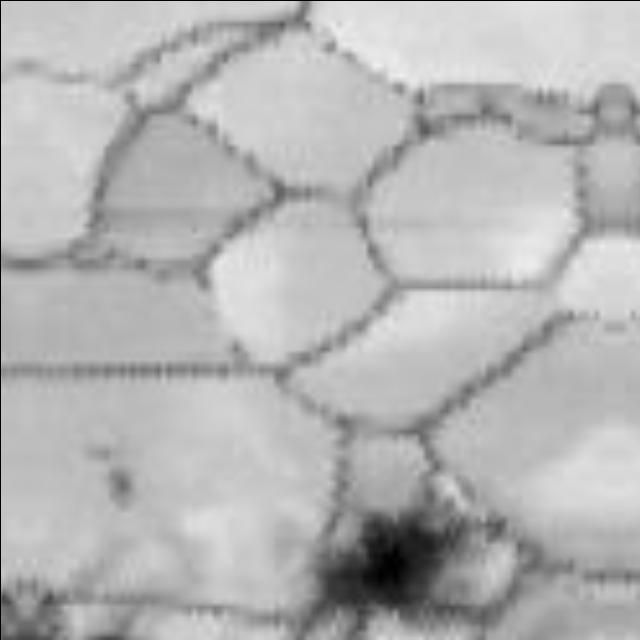good_void: (308, 503, 508, 623), (102, 466, 135, 508)
